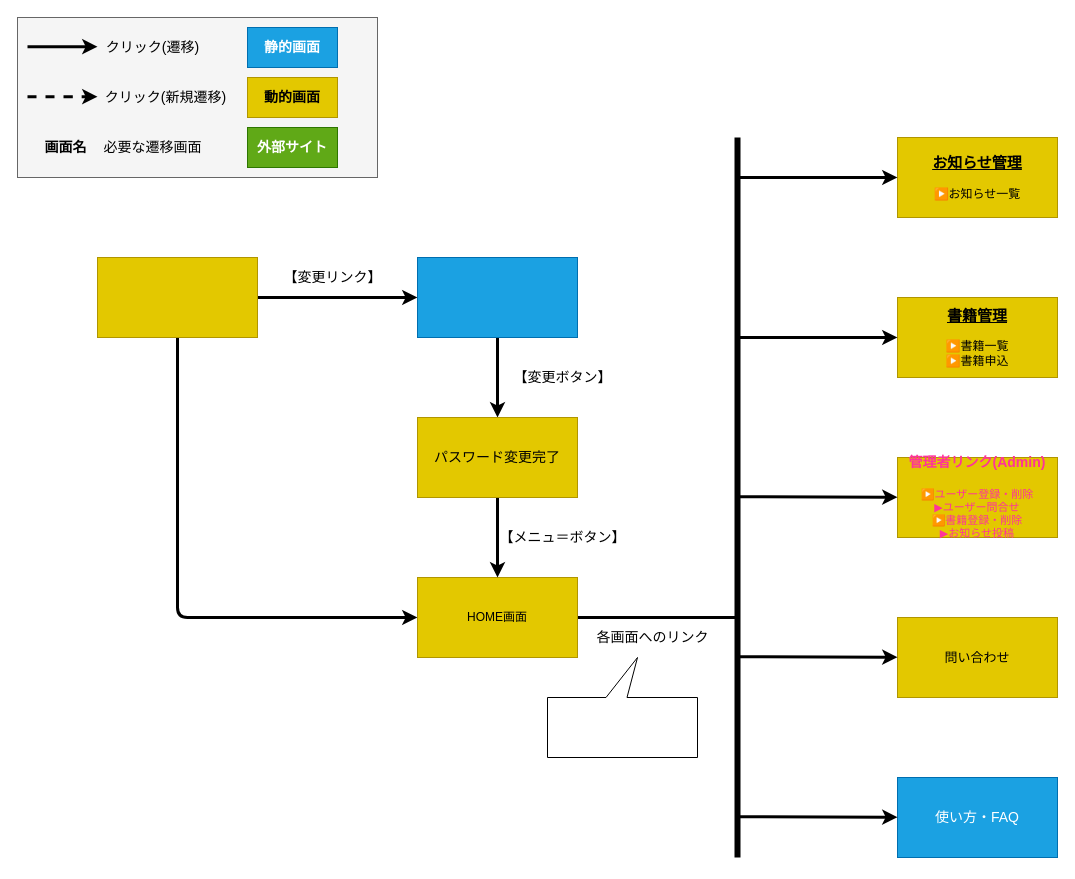
Some shapes in this 1075 by 879 pixel diagram are drawn without their labels. The centre of each missing label's shape, as x and y in pixels:
TOP: pixel 177 297
パスワード変更: pixel 497 297
権限でリンクの表示/非表示 切り替え: pixel 622 707
